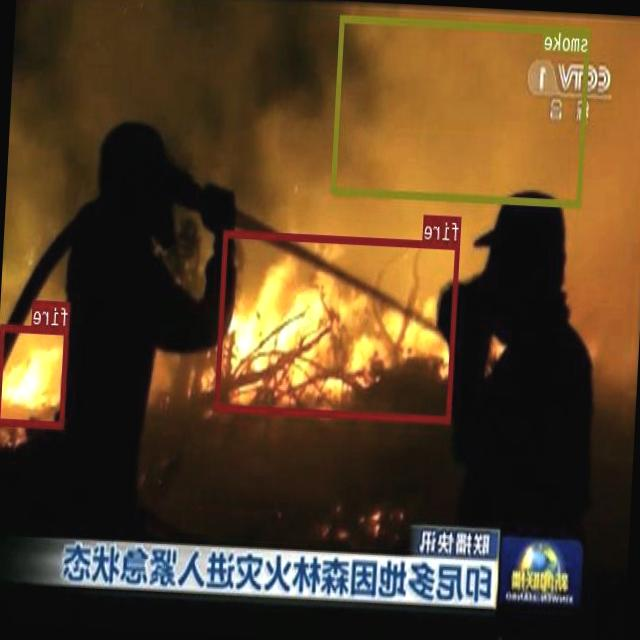fire: (215, 228, 460, 422), (0, 323, 69, 427)
smoke: (332, 15, 591, 206)
